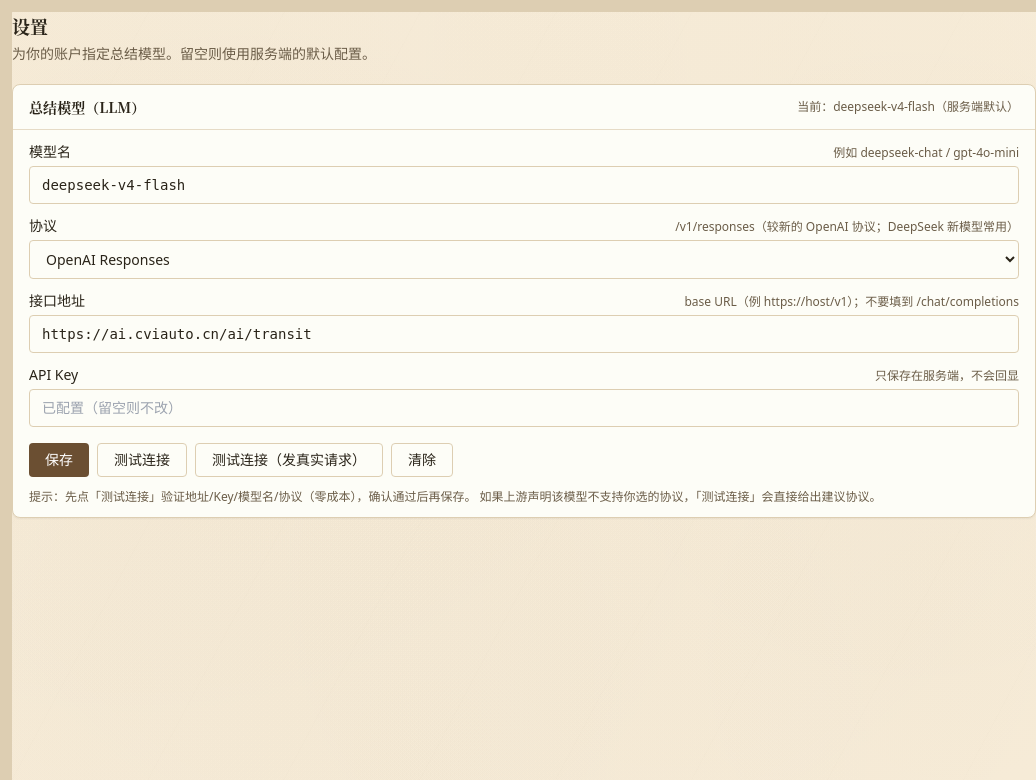
Scenario: 设置页：LLM 多协议与连接自检（TASK-113） › 协议不匹配时给出建议协议（实测根因：deepseek-v4-flash 不支持 openai）
Select "OpenAI Chat Completions" in the dropdown labelled "协议 /v1/responses（较新的 OpenAI 协议；DeepSeek 新模型常用）" at x=524, y=260, box [29,240,1019,279]
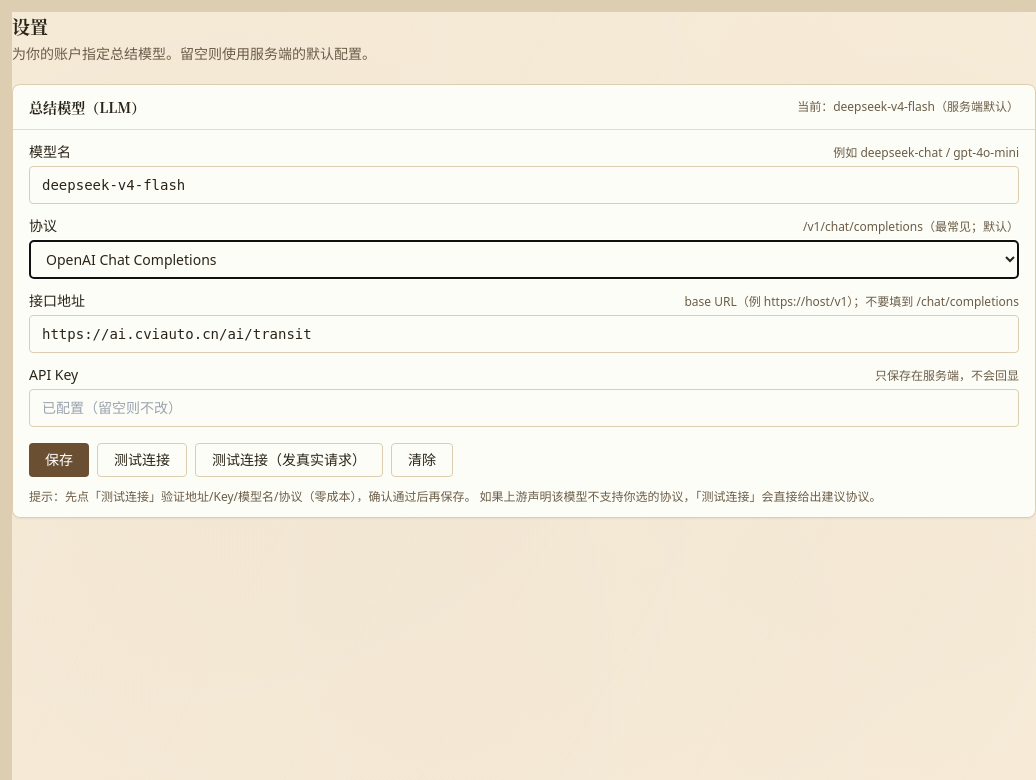
Click the button "测试连接" at x=142, y=460, box [97,443,187,477]
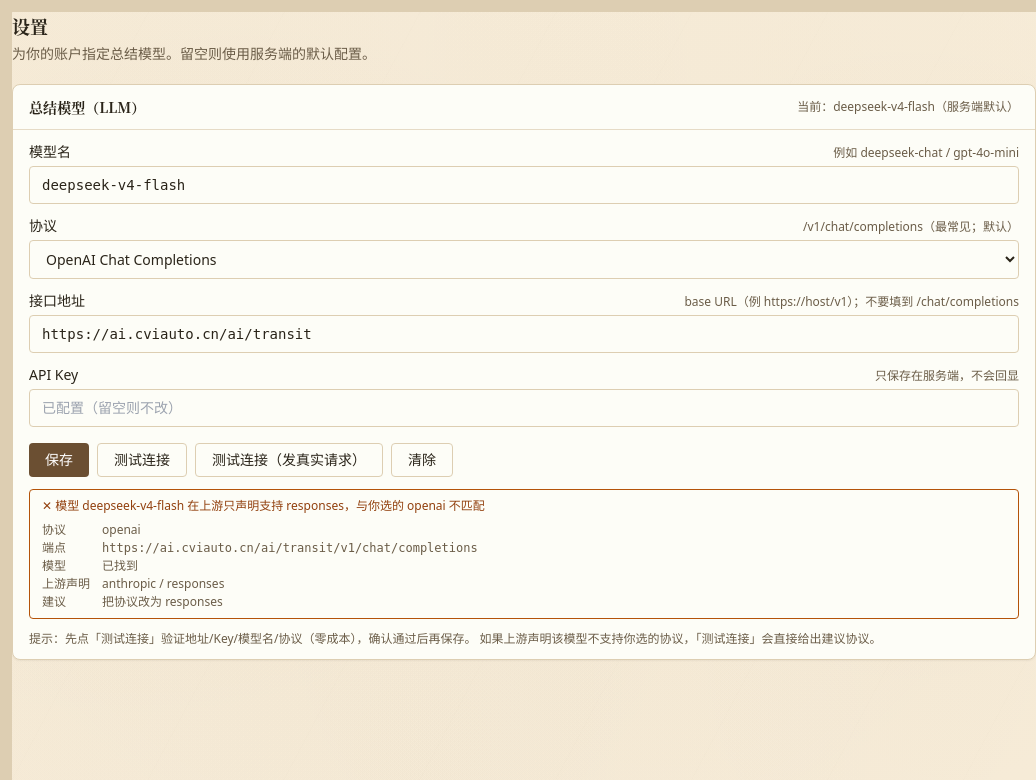
expect the element with test id "llm-test-result" shows "不匹配": met, box [55,497,485,514]
expect the text with test id "llm-test-suggestion" shows "responses": met, box [165,593,223,610]
expect the element with test id "llm-test-result" shows "responses": met, box [165,593,223,610]
